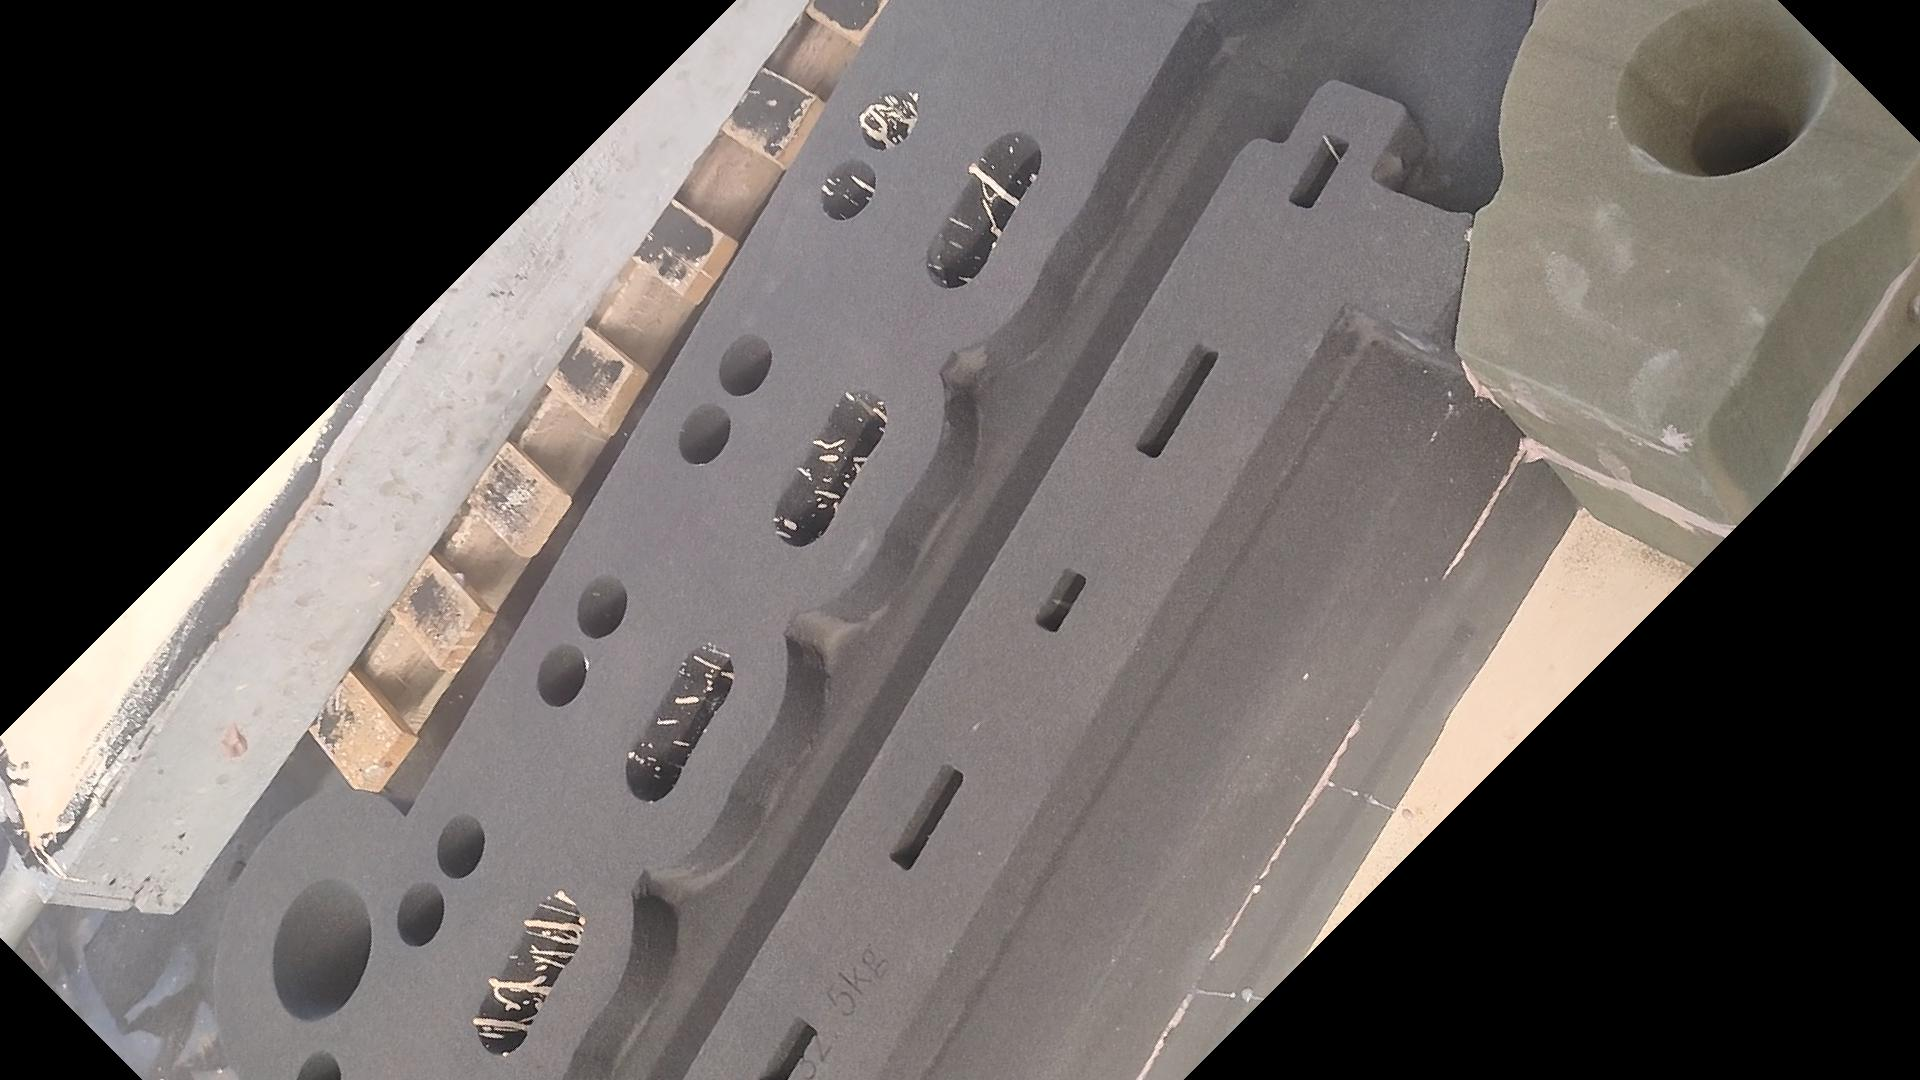pouring hole: (1613, 3, 1836, 178), (270, 874, 373, 1022)
